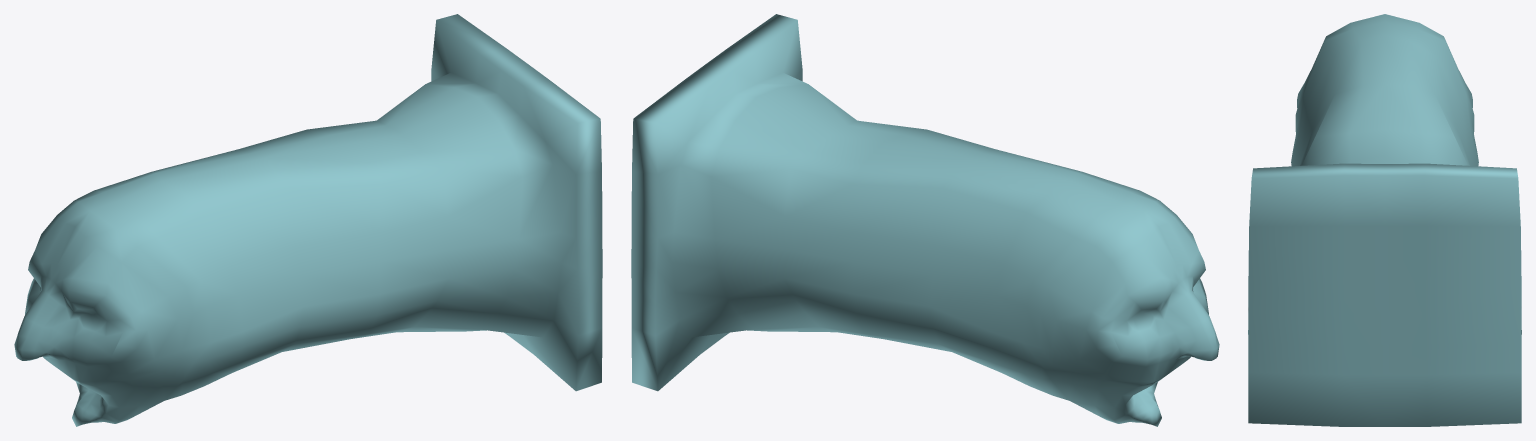
Rendered from Statue_10_Lod0.fbx.
3 renders of one model, left to right at view 1: azimuth 30°, elevation 25°; view 2: azimuth 150°, elevation 25°; view 3: azimuth 270°, elevation 25°, orthographic. The views are drawn at different scales.
Visible parts, largest first — view 1: Statue_10_Lod0; view 2: Statue_10_Lod0; view 3: Statue_10_Lod0.
Part boxes in pixels (left/top/right/bottom): Statue_10_Lod0: left=14, top=14, right=602, bottom=426; Statue_10_Lod0: left=631, top=14, right=1219, bottom=426; Statue_10_Lod0: left=1248, top=14, right=1521, bottom=426.
Size of the model in its own units: 166 by 83.12 by 81.96.
